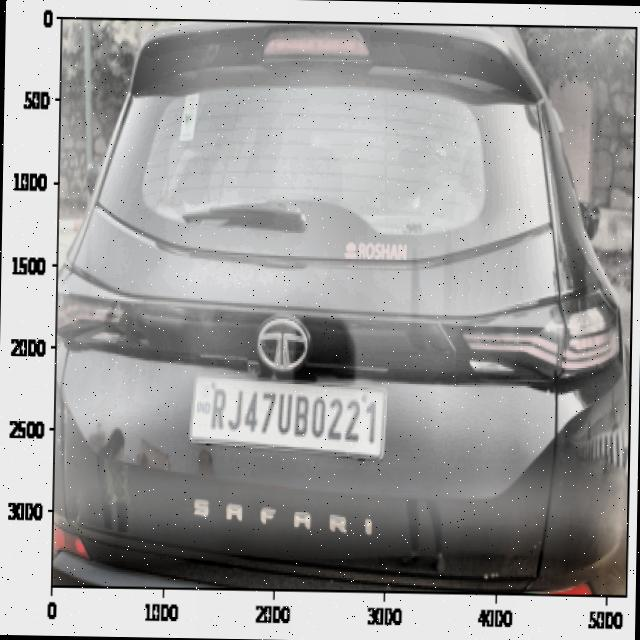license_plate: (204, 374, 387, 456)
